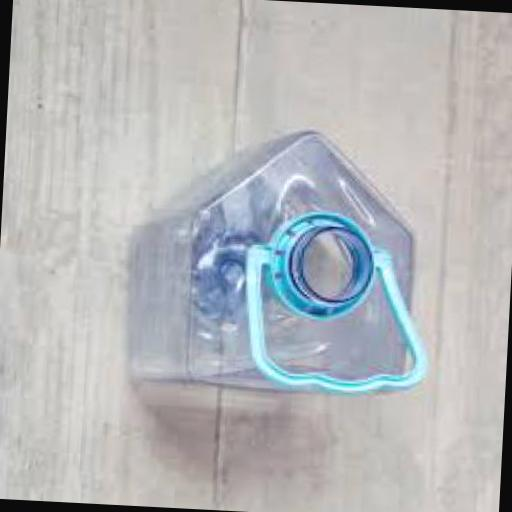plastic: (123, 120, 422, 404), (236, 202, 438, 394)
